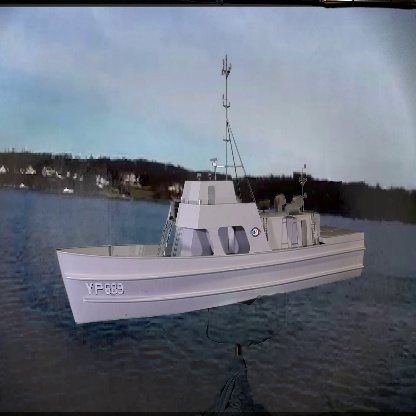YP689: (54, 53, 366, 326)
